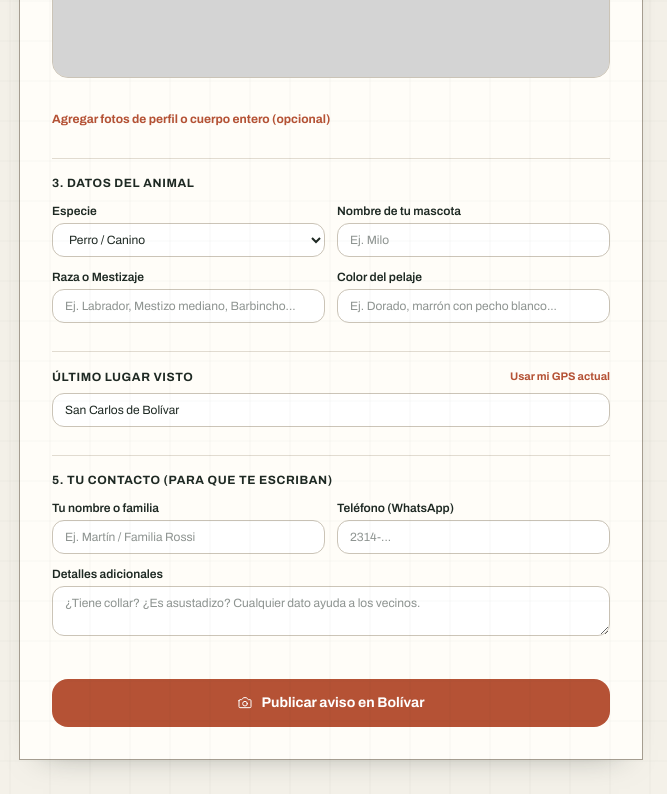
Test: publica la foto y muestra el cotejo (vacío)
Earlier steps of the test are not shown.
(page scrolled)
expect the file field labelled "Agregar fotos de perfil o cuerpo entero (opcional)" is shown: met, box x1=52 y1=111 x2=330 y2=127
Click the button "Publicar aviso en Bolívar". click: (331, 703)
box: x1=52 y1=679 x2=610 y2=727
(page scrolled)
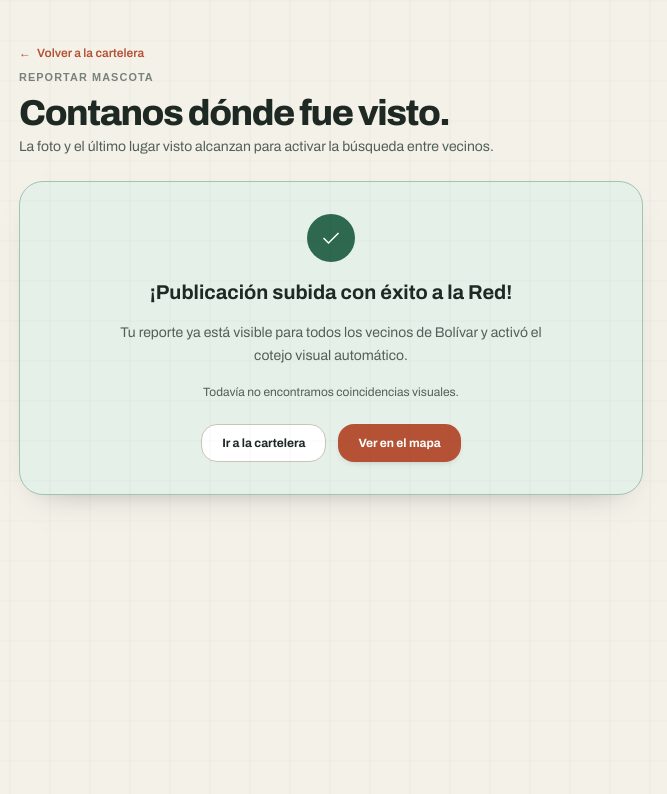
expect the heading "¡Publicación subida con éxito a la Red!" is shown: met, box x1=150 y1=281 x2=512 y2=303
expect the text "Todavía no encontramos coincidencias visuales." is shown: met, box x1=203 y1=385 x2=459 y2=399
